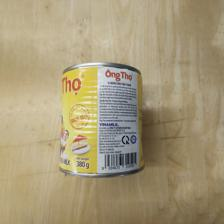Ong_tho: (57, 60, 147, 177)
